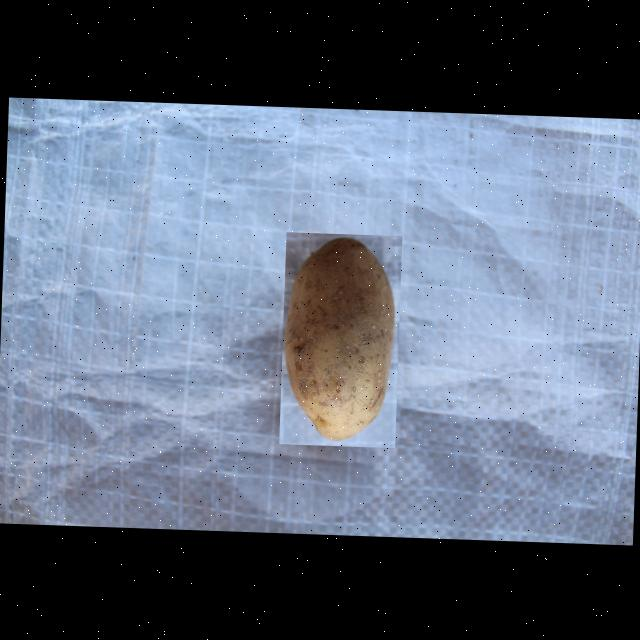Diseased-fungal potato: (278, 230, 401, 447)
